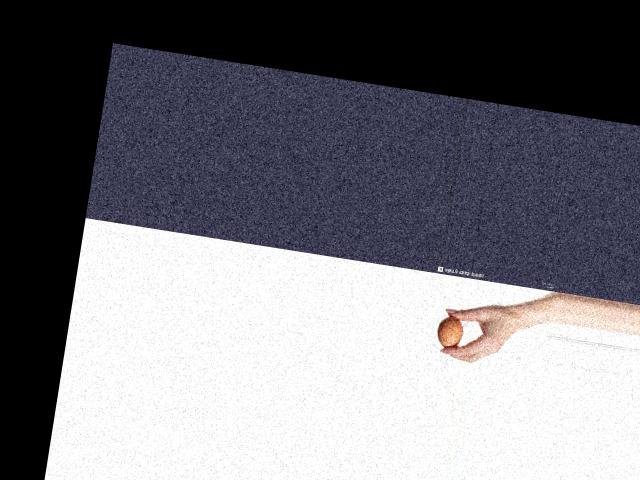egg: (435, 314, 466, 349)
